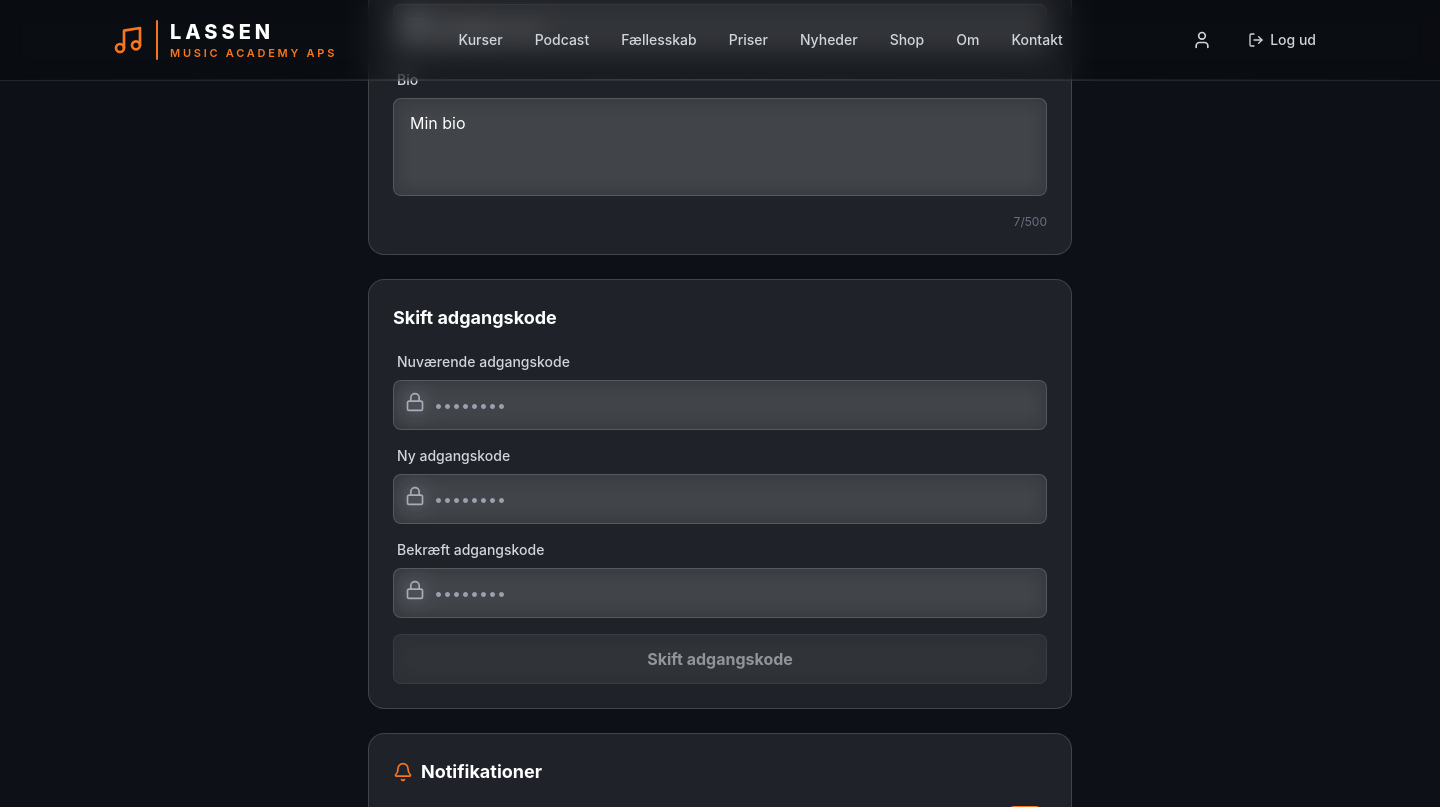
Test case: MyProfile Page › Password change › rejects a password shorter than 8 characters
(page scrolled)
Type "oldpassword" into the password field with placeholder "••••••••" below "Nuværende adgangskode".
click(720, 405); type("oldpassword")  # box [393,380,1047,430]
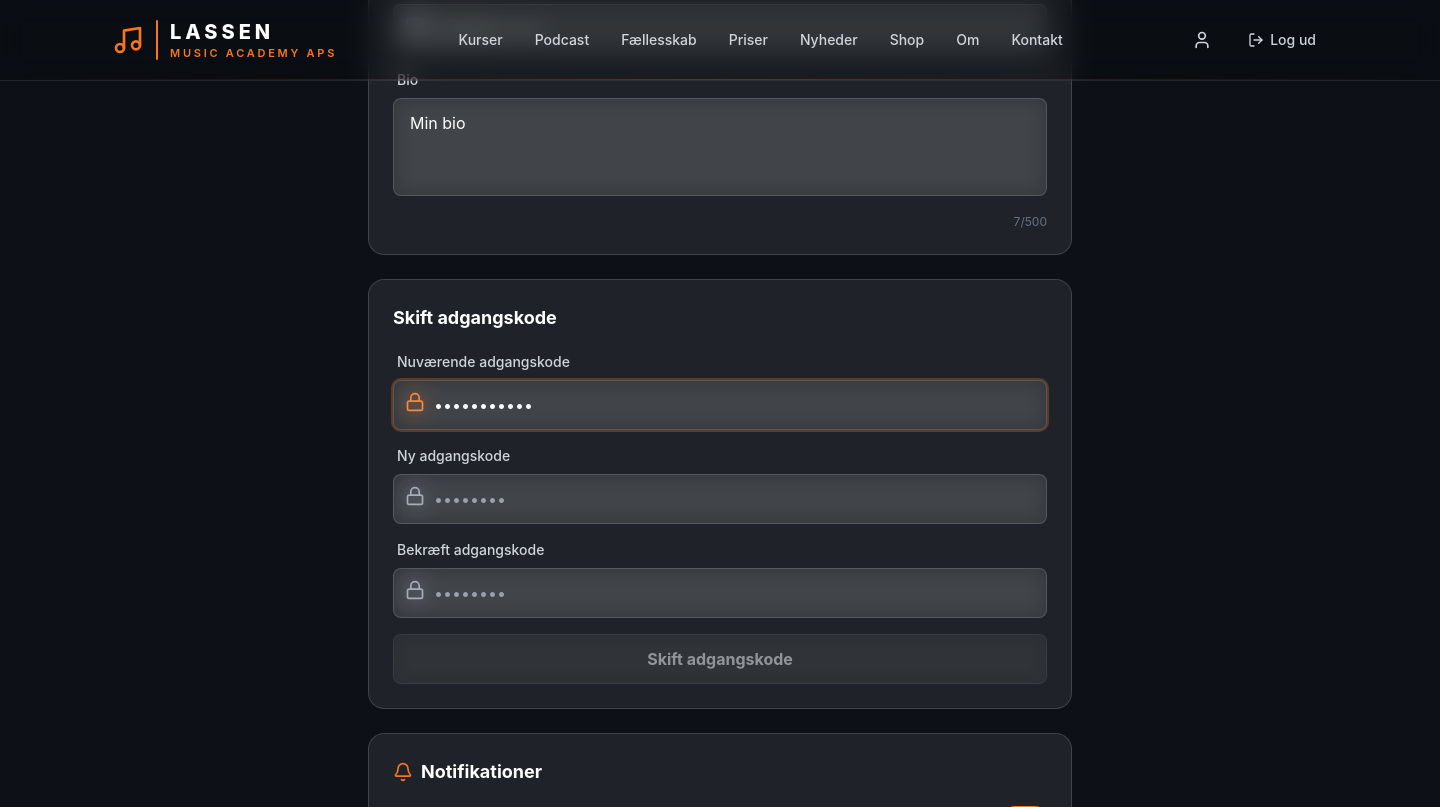
Type "short" into the password field with placeholder "••••••••" below "Ny adgangskode".
click(720, 499); type("short")  # box [393,474,1047,524]
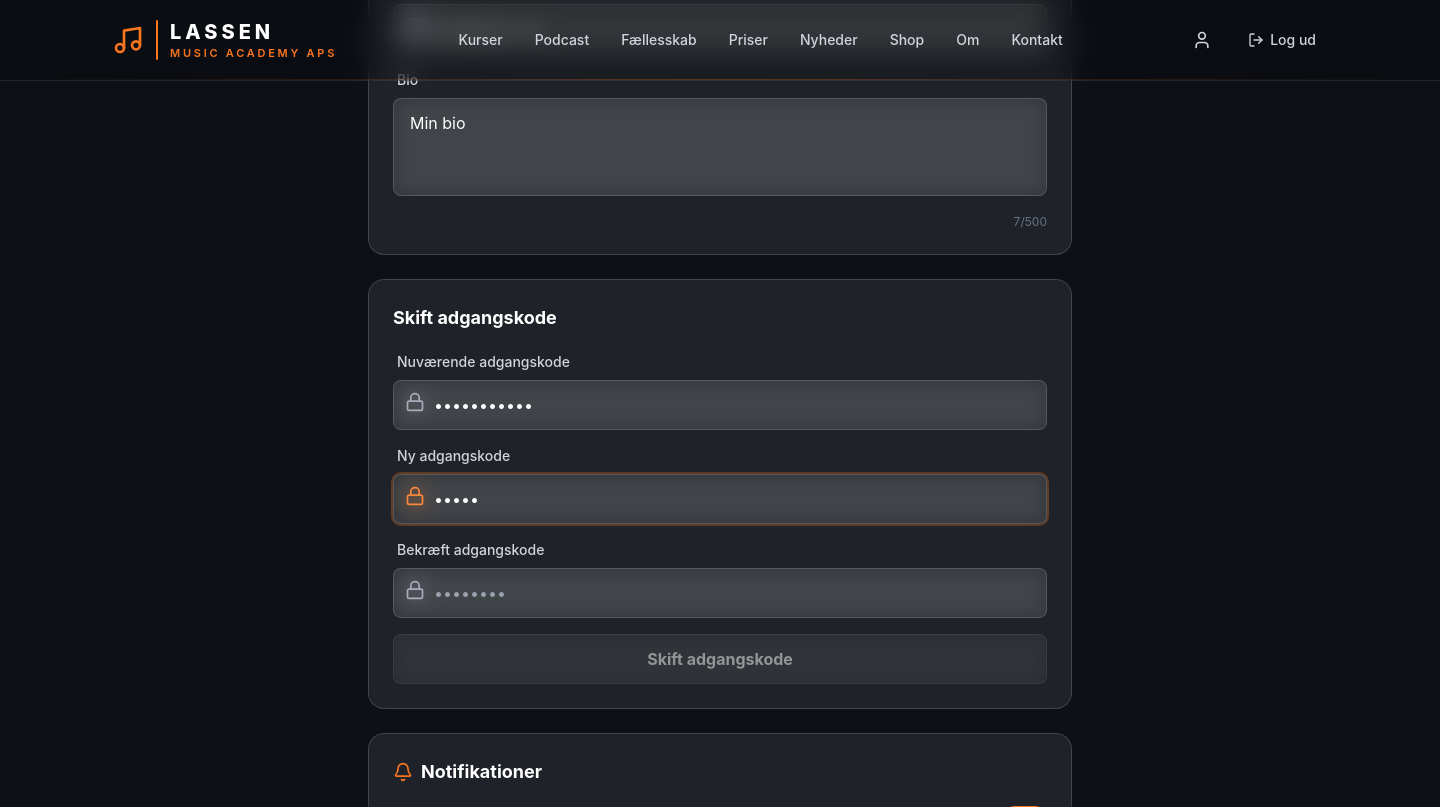
Type "short" into the password field with placeholder "••••••••".
click(720, 593); type("short")  # box [393,568,1047,618]
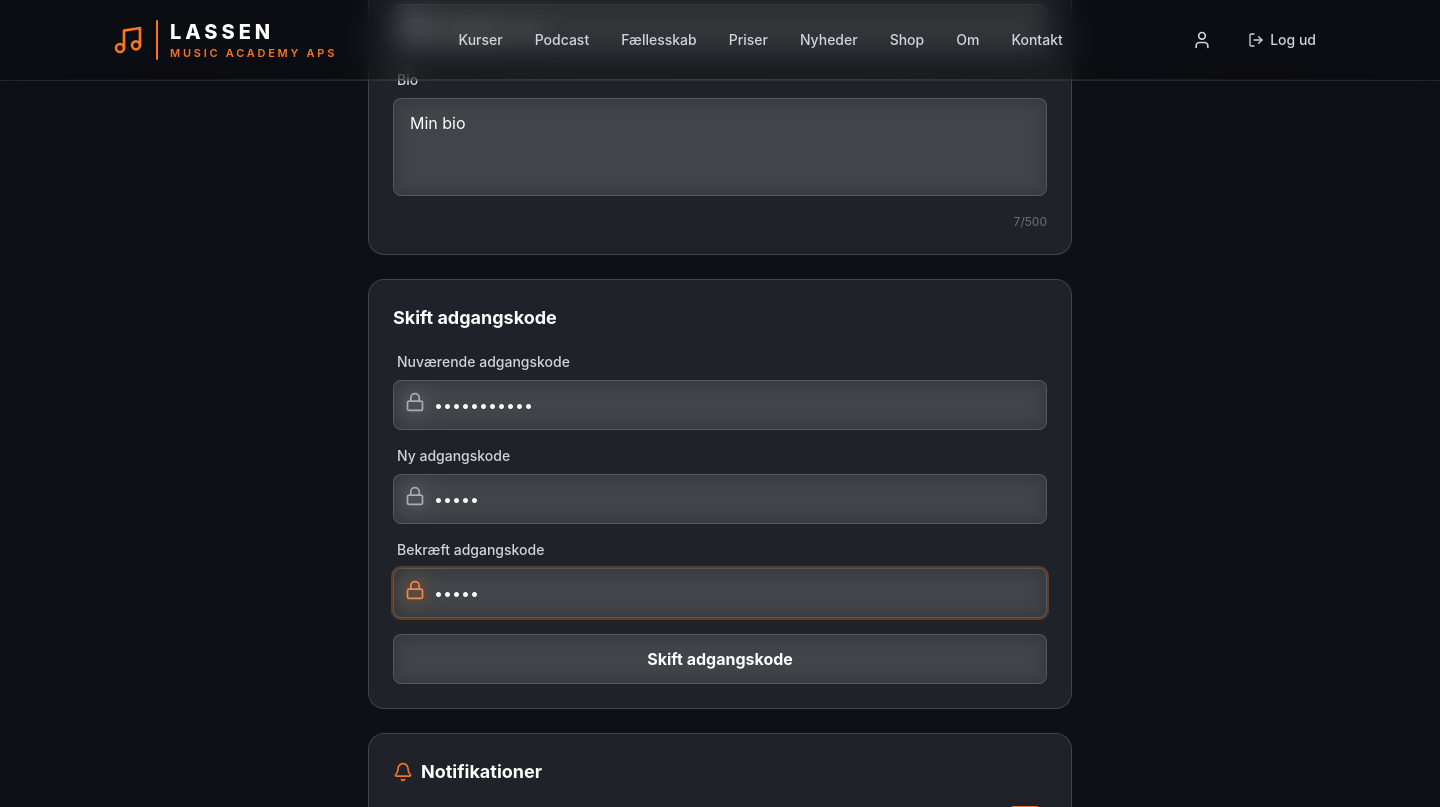
Click the button "Skift adgangskode".
click(720, 659)  # box [393,634,1047,684]
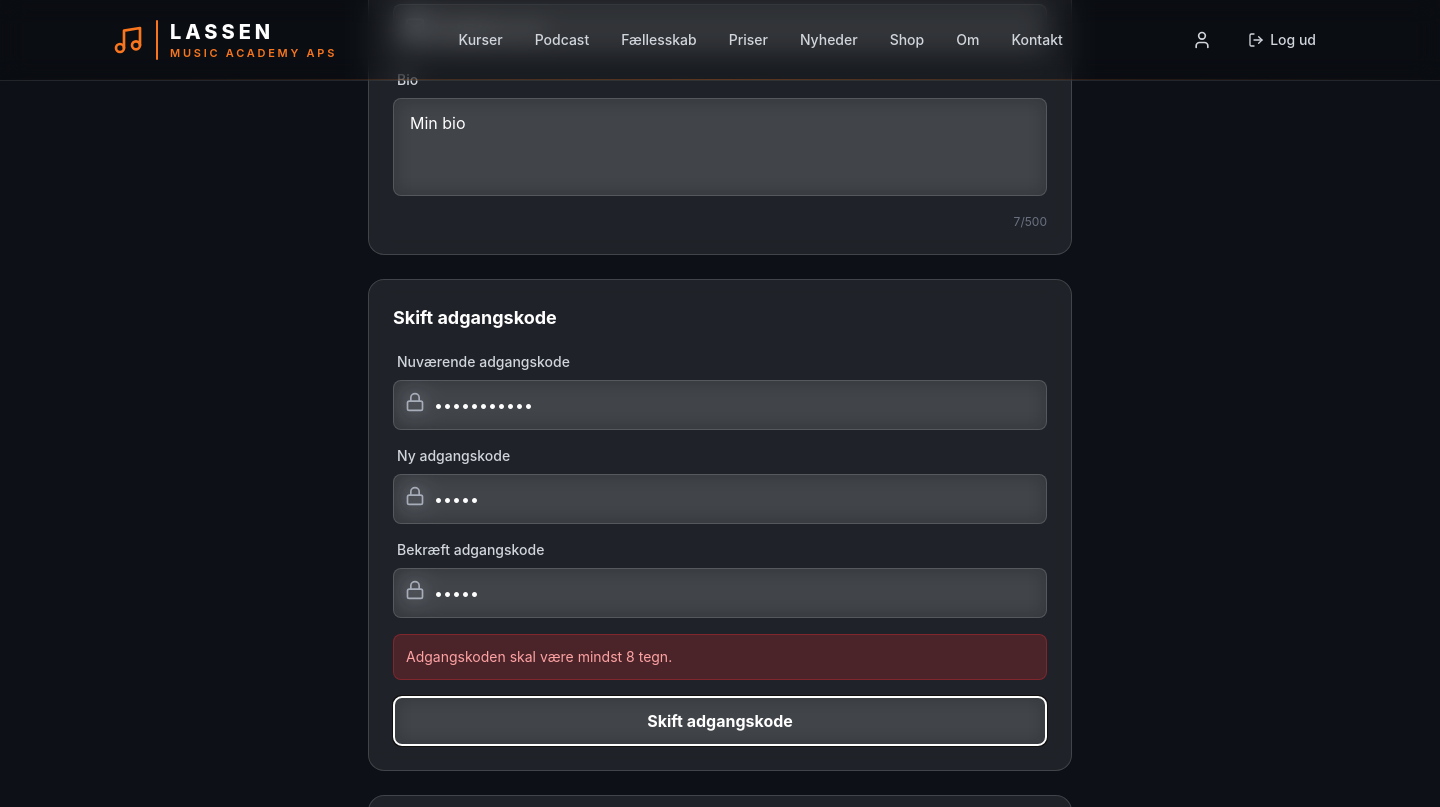
Result: the text "Adgangskoden skal være mindst 8 tegn." is shown at [393,634,1047,680]
